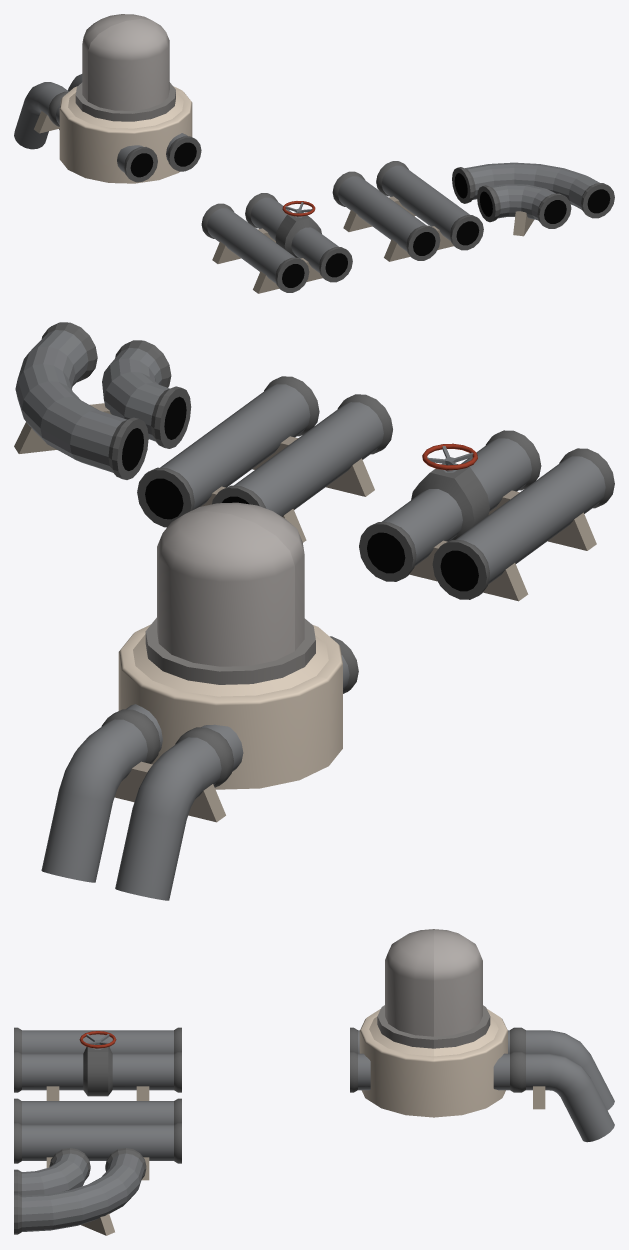
File: piiiiipes.fbx
3 renders of one model, top to bottom at view 1: azimuth 30°, elevation 25°; view 2: azimuth 150°, elevation 25°; view 3: azimuth 270°, elevation 25°, orthographic. The views are drawn at different scales.
Parts seen in each view (by area): view 1: pipe_pump, pipe_straight3, pipe_straight11, pipe_bend, pipe_inlet; view 2: pipe_pump, pipe_straight3, pipe_straight11, pipe_inlet, pipe_bend; view 3: pipe_pump, pipe_straight3, pipe_straight11, pipe_bend, pipe_inlet.
Boxes of the visible parts, <box> form: pipe_pump: <box>50,14,201,183</box>; pipe_straight3: <box>201,193,352,293</box>; pipe_straight11: <box>332,161,483,261</box>; pipe_bend: <box>452,162,614,236</box>; pipe_inlet: <box>14,74,82,149</box>; pipe_pump: <box>111,502,358,789</box>; pipe_straight3: <box>359,430,614,601</box>; pipe_straight11: <box>137,376,392,542</box>; pipe_inlet: <box>41,711,230,900</box>; pipe_bend: <box>14,322,191,479</box>; pipe_pump: <box>350,929,517,1117</box>; pipe_straight3: <box>14,1027,181,1100</box>; pipe_straight11: <box>14,1098,181,1180</box>; pipe_bend: <box>14,1148,146,1235</box>; pipe_inlet: <box>518,1027,614,1142</box>.
Bounding box in the file's own units: 2.73 × 1.25 × 3.58.
1 material, 1 textured.
